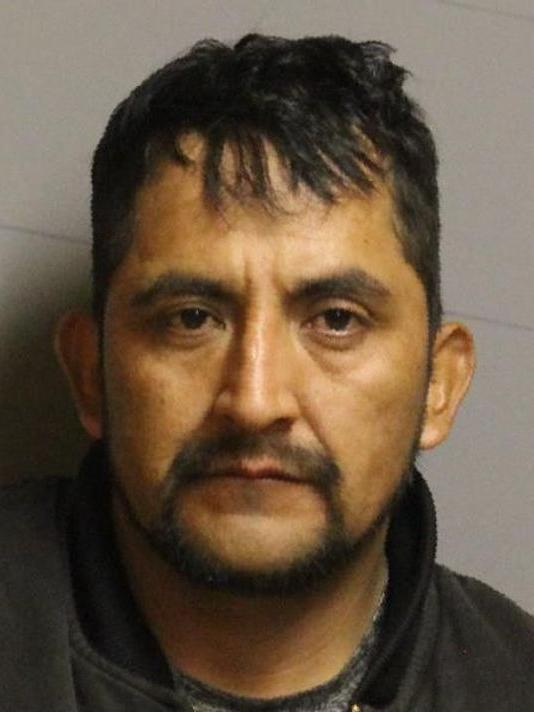Drunk: (131, 129, 418, 565)
